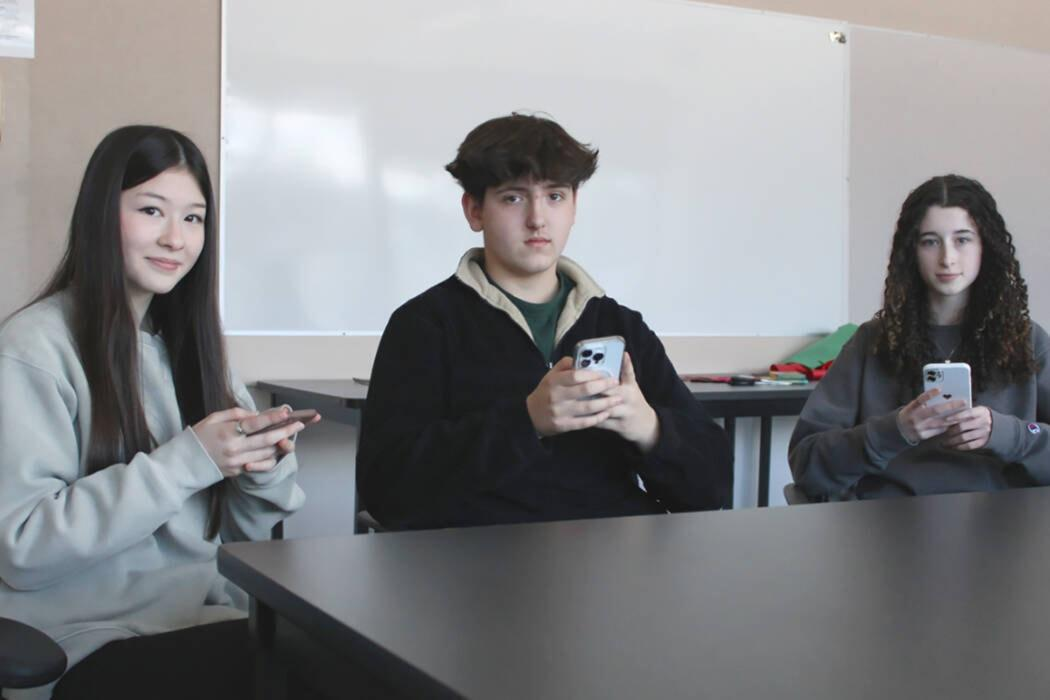phone: (361, 116, 725, 509), (0, 117, 314, 546), (788, 168, 1050, 496)
